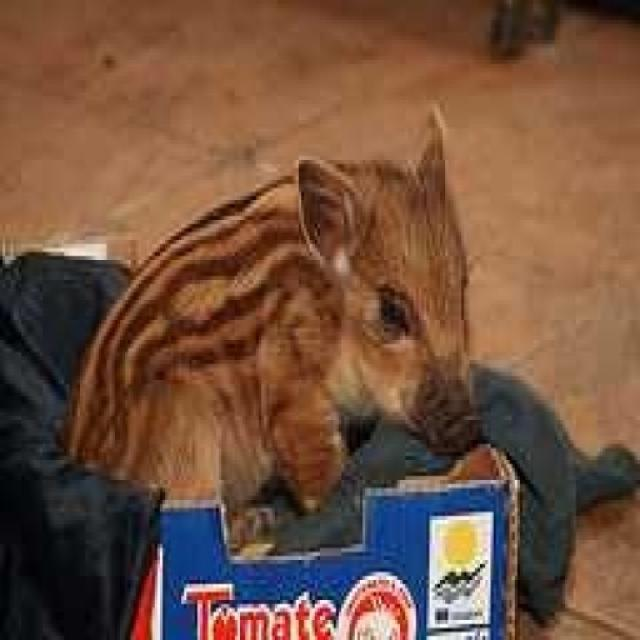pig: (0, 74, 559, 518)
